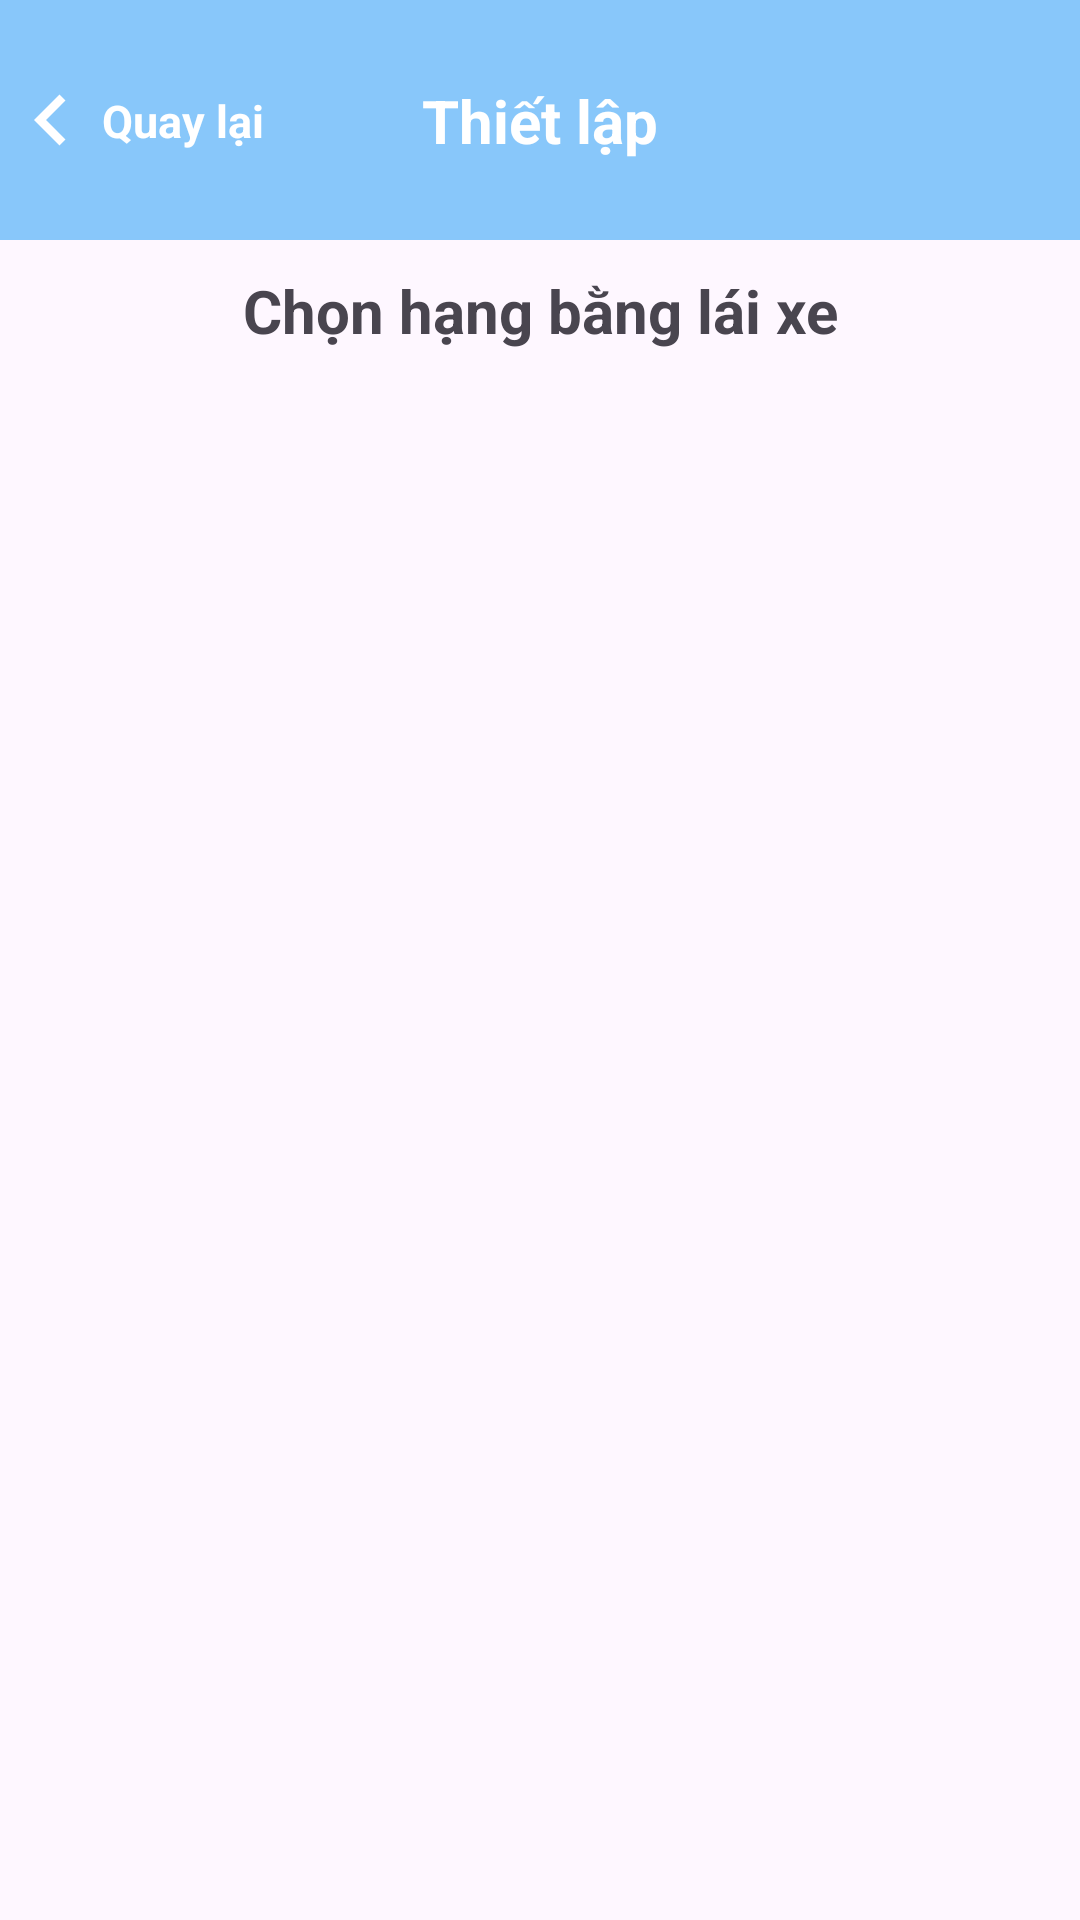

Locate icon controls on the screen. Image size 1080x1920, boxes as (x1, y1, x2, y2).
chevron left: (34, 94, 66, 146)
